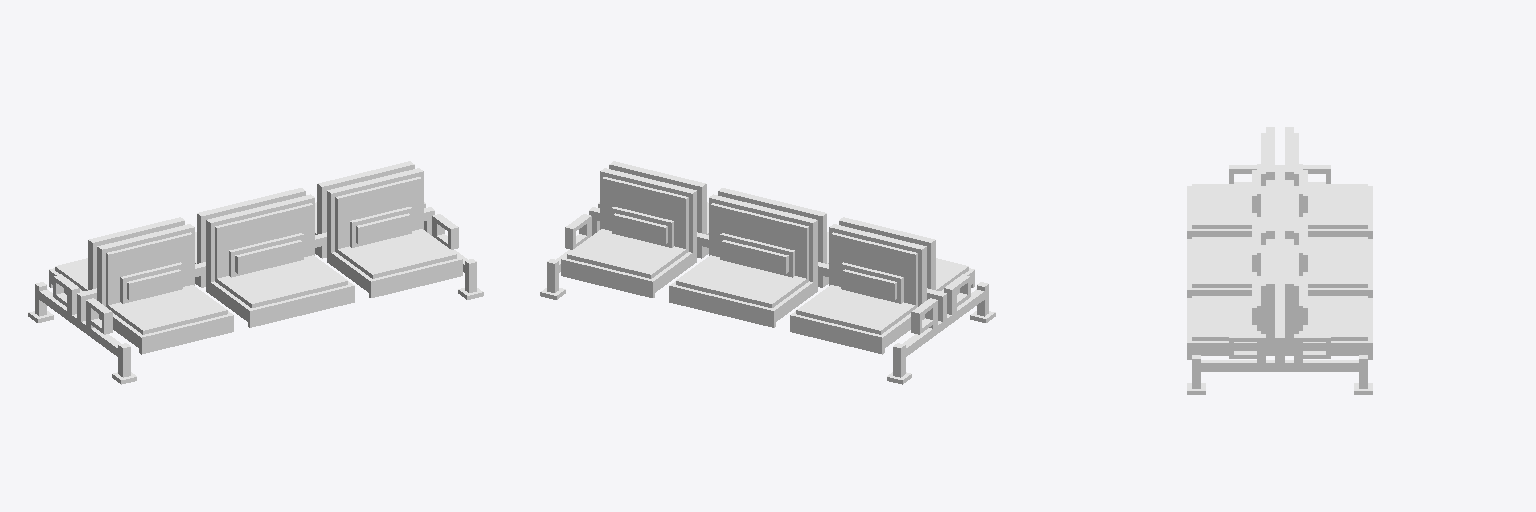
File: Threechair.obj
The picture shows the model from 3 angles: view 1: azimuth 30°, elevation 25°; view 2: azimuth 150°, elevation 25°; view 3: azimuth 270°, elevation 25°; orthographic projection.
Visible parts, largest first — view 1: object 1; view 2: object 1; view 3: object 1.
Part boxes in pixels (bbox=[...]): object 1: bbox=[28, 161, 483, 384]; object 1: bbox=[540, 161, 995, 384]; object 1: bbox=[1187, 127, 1372, 394].
Bounding box in the file's own units: 9 × 2.4 × 4.